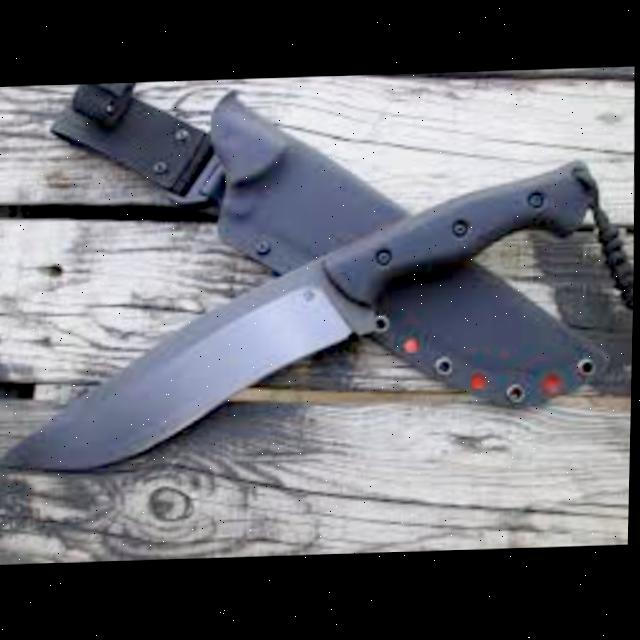Knife: (0, 68, 639, 474)
